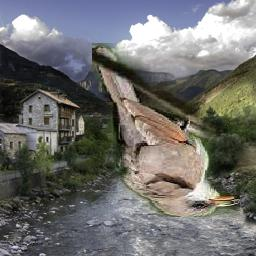Cuckoo: (92, 43, 240, 217)
